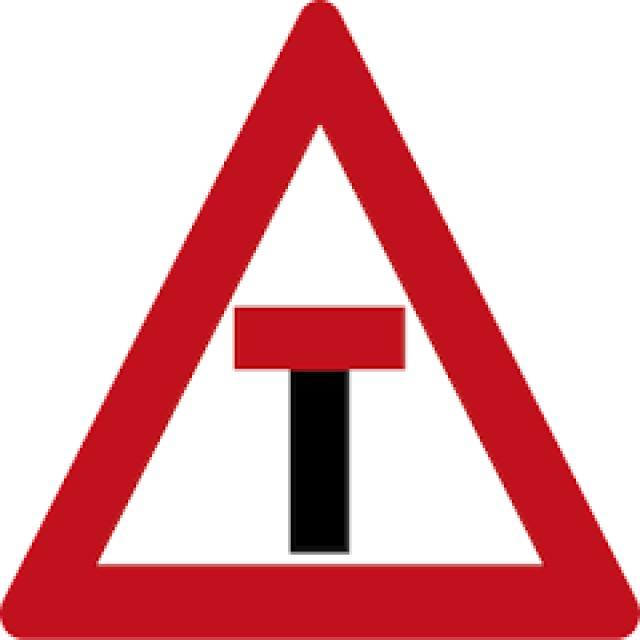t intersection: (33, 40, 607, 605)
